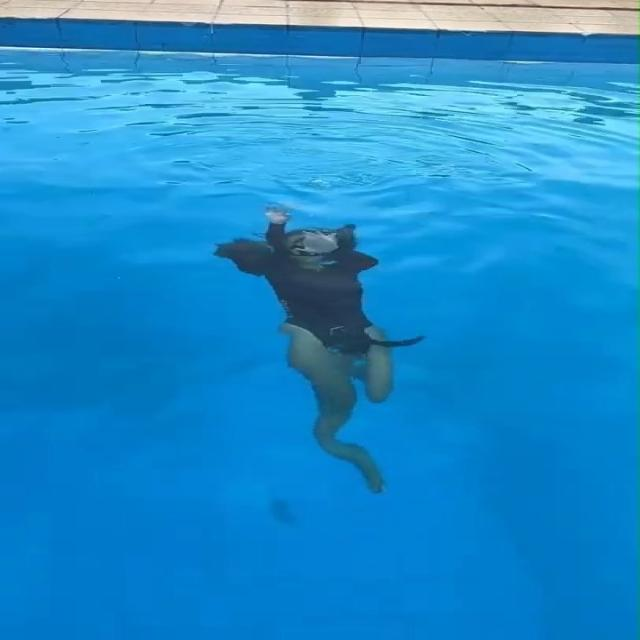Drowning: (213, 205, 430, 494)
